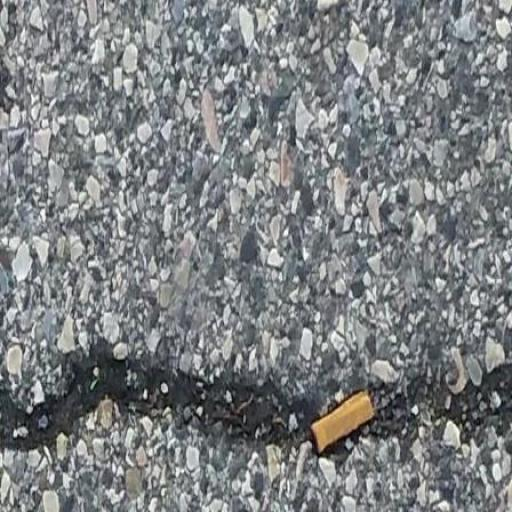spalling: (5, 326, 508, 469)
